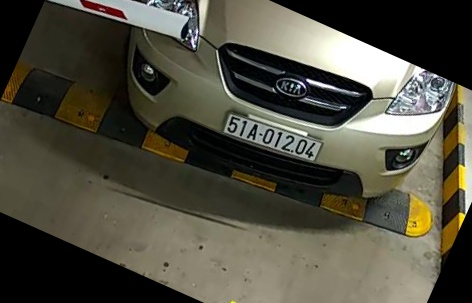plate: (214, 110, 328, 166)
